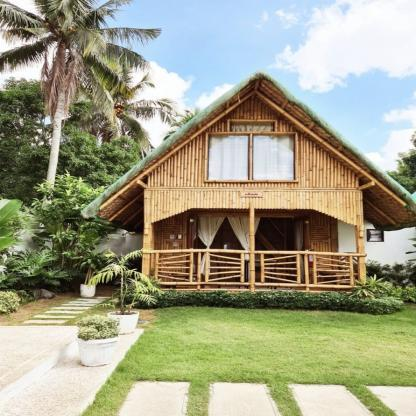Building Outline: (80, 70, 416, 290)
Dont: (87, 246, 165, 335)
Door: (193, 217, 303, 283)
Door Hole: (149, 209, 359, 290)
Facade: (189, 133, 325, 290)
Floor Slab: (146, 186, 362, 190)
Ground Floor: (146, 190, 362, 290)
Roof: (80, 70, 416, 234)
Top Floor: (146, 96, 362, 187)
Window: (253, 135, 294, 179), (210, 135, 248, 179), (229, 121, 275, 131)
